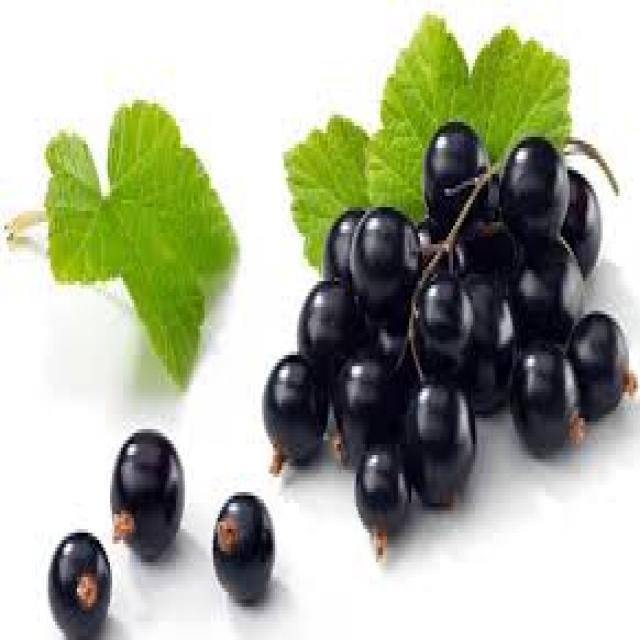organic waste: (44, 100, 235, 385), (372, 7, 565, 248), (284, 115, 369, 278), (106, 429, 184, 566), (346, 203, 422, 333), (409, 377, 475, 518), (515, 230, 585, 356), (464, 263, 515, 414), (209, 492, 275, 607), (514, 337, 580, 451), (264, 355, 325, 477), (413, 266, 473, 388), (570, 307, 634, 418), (354, 432, 409, 558), (497, 133, 563, 237), (458, 192, 526, 292), (339, 344, 400, 455), (48, 529, 108, 636), (427, 122, 486, 218), (299, 278, 361, 367), (566, 166, 600, 285), (321, 207, 363, 296), (411, 208, 440, 266)
